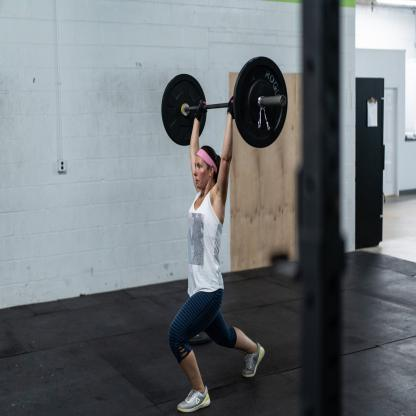barbell: (159, 54, 290, 150)
